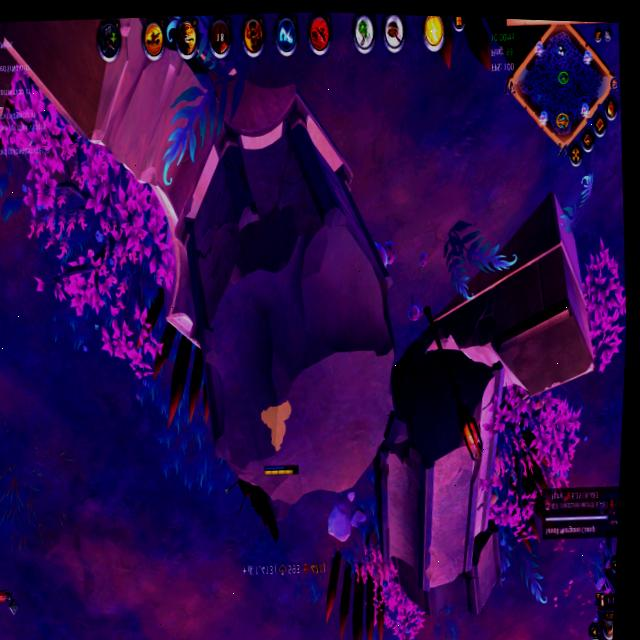red: (246, 382, 308, 487)
